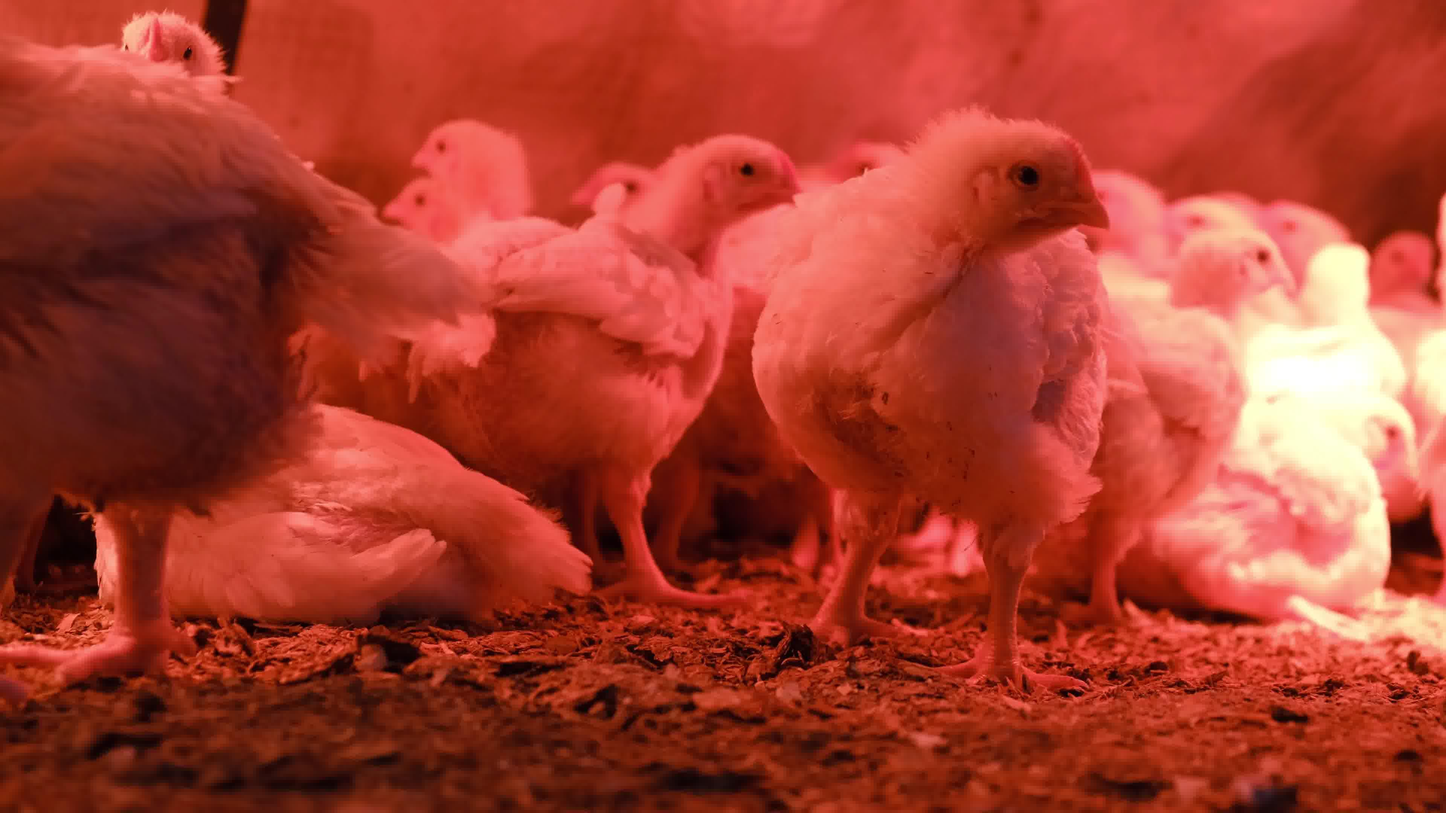AbNormal: (88, 352, 599, 625), (1194, 390, 1446, 657)
Normal: (772, 77, 1182, 679), (8, 8, 341, 698), (395, 137, 849, 612), (1090, 211, 1312, 614), (1309, 177, 1446, 589), (1265, 226, 1422, 487), (345, 102, 559, 275)
